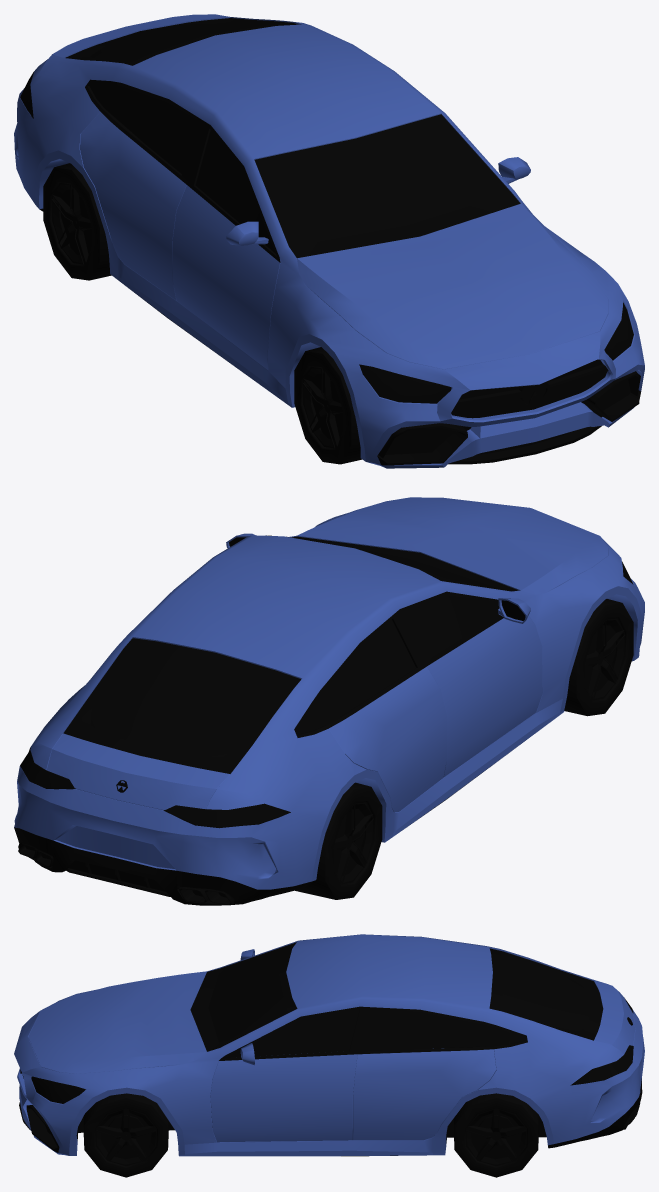
Rendered from AmgLodHukuk.fbx.
The picture shows the model from 3 angles, top to bottom: view 1: azimuth 30°, elevation 25°; view 2: azimuth 150°, elevation 25°; view 3: azimuth 270°, elevation 25°; orthographic projection. The views are drawn at different scales.
Visible parts, largest first — view 1: Amgbod, arkateker2, onteker2; view 2: Amgbod, arkateker2, onteker2; view 3: Amgbod, arkateker1, onteker1.
Boxes of the visible parts, x1,y1,x2,y2 form: Amgbod: [14, 14, 644, 468]; arkateker2: [43, 163, 111, 280]; onteker2: [294, 347, 361, 464]; Amgbod: [14, 497, 644, 905]; arkateker2: [295, 782, 382, 899]; onteker2: [564, 599, 633, 716]; Amgbod: [14, 934, 644, 1156]; arkateker1: [454, 1093, 538, 1177]; onteker1: [83, 1093, 168, 1177].
Size of the model in its own units: 175 by 126 by 432.
